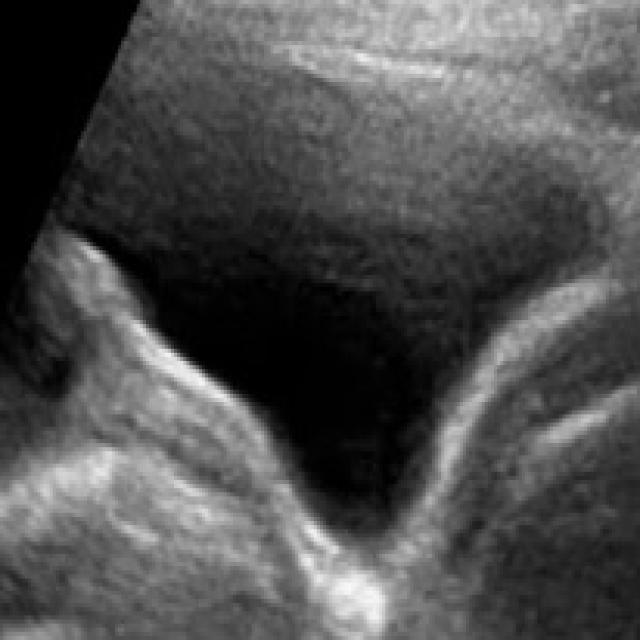bladder: (38, 10, 628, 581)
